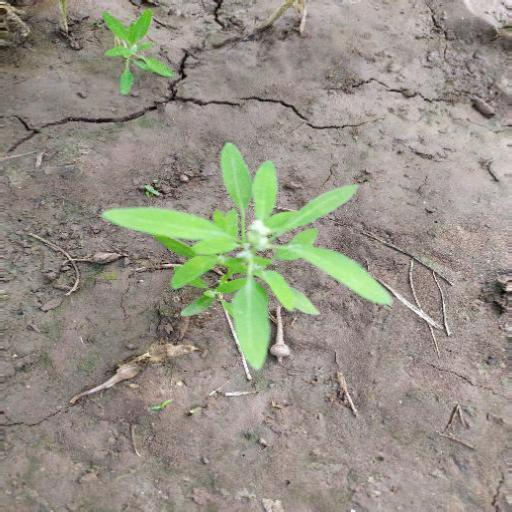weed: (99, 157, 400, 376)
